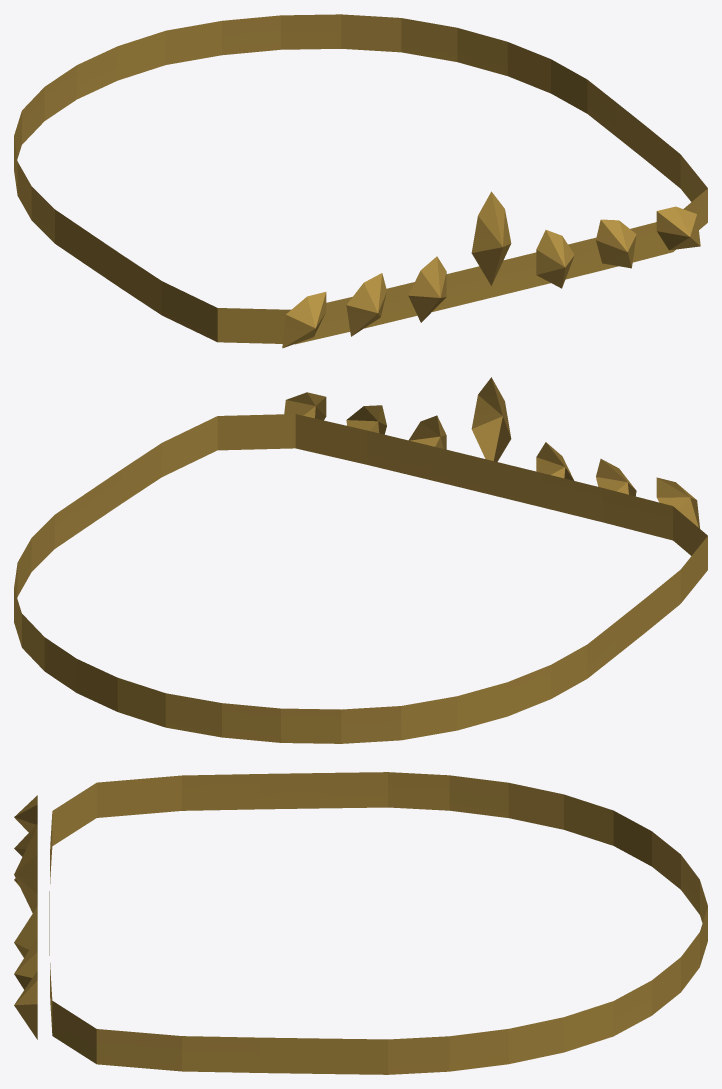
File: elfo_diadema_3.glb
3 views of the same model, one above another, from view 1: azimuth 30°, elevation 25°; view 2: azimuth 150°, elevation 25°; view 3: azimuth 270°, elevation 25° (orthographic). The views are drawn at different scales.
Parts seen in each view (by area): view 1: elfo_diadema_3; view 2: elfo_diadema_3; view 3: elfo_diadema_3.
Boxes of the visible parts, box(x1,y1,x2,y2) form: elfo_diadema_3: box(14, 14, 707, 348); elfo_diadema_3: box(14, 377, 707, 743); elfo_diadema_3: box(14, 772, 707, 1074).
Bounding box in the file's own units: 0.9384 × 0.1931 × 1.03.
1 material, 1 textured.
